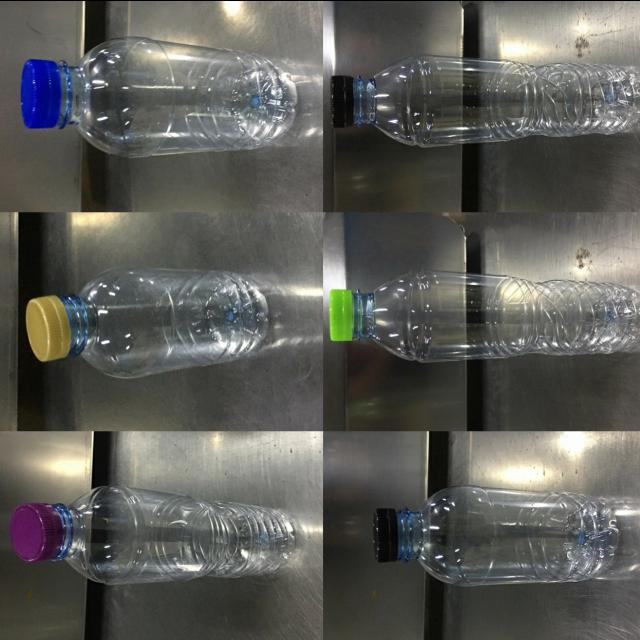plastik: (21, 36, 296, 157), (330, 268, 640, 362), (331, 54, 640, 146), (10, 484, 293, 584), (25, 267, 268, 377), (373, 485, 619, 585)
